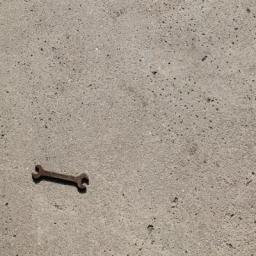FOD: (30, 161, 93, 197)
